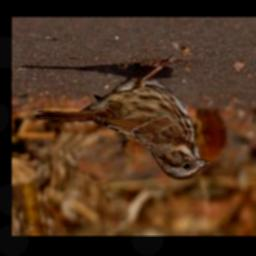Sparrow: (32, 57, 210, 185)
